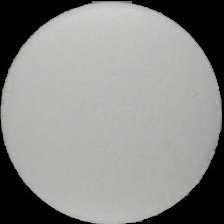64679-929: (0, 0, 224, 224)
